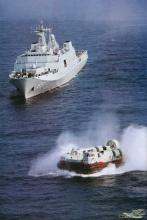otherboat: (55, 137, 126, 180)
warship: (9, 17, 91, 105)
